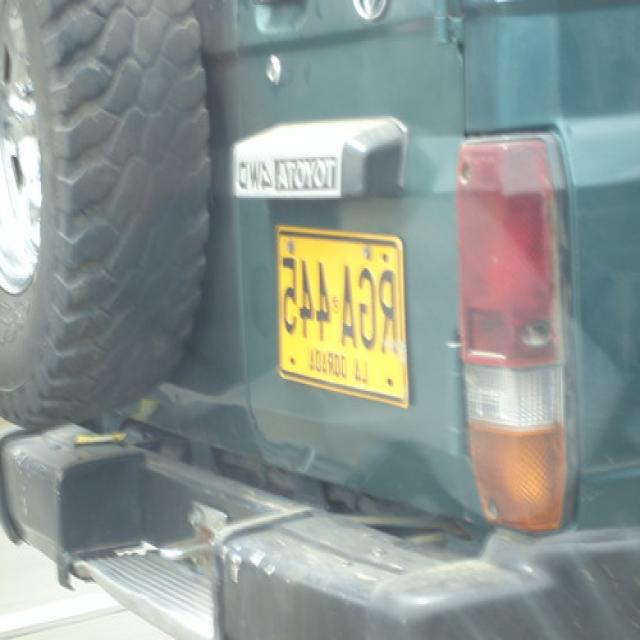placas: (278, 232, 400, 361)
